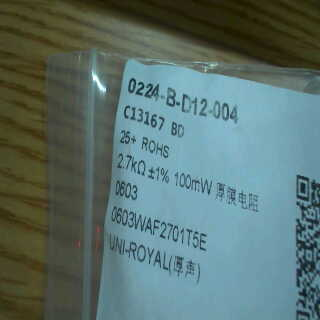2.7kR: (114, 151, 147, 179)
